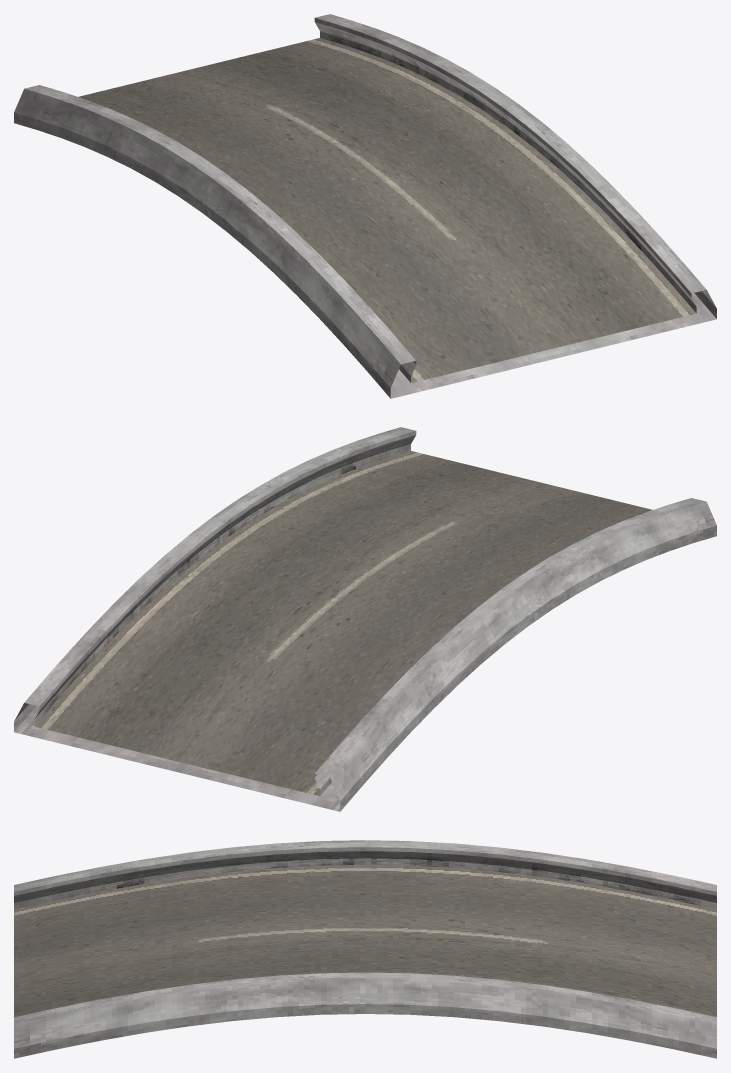
Rendered from straight2.glb.
3 views of the same model, one above another, from view 1: azimuth 30°, elevation 25°; view 2: azimuth 150°, elevation 25°; view 3: azimuth 270°, elevation 25° (orthographic). The views are drawn at different scales.
Parts seen in each view (by area): view 1: road-Straight-BiSlopeUp-BiSlopeDown-Even-Center-Size2; view 2: road-Straight-BiSlopeUp-BiSlopeDown-Even-Center-Size2; view 3: road-Straight-BiSlopeUp-BiSlopeDown-Even-Center-Size2.
Boxes of the visible parts, box(x1,y1,x2,y2) form: road-Straight-BiSlopeUp-BiSlopeDown-Even-Center-Size2: box(14, 14, 716, 398); road-Straight-BiSlopeUp-BiSlopeDown-Even-Center-Size2: box(14, 427, 716, 811); road-Straight-BiSlopeUp-BiSlopeDown-Even-Center-Size2: box(14, 840, 716, 1058).
Bounding box in the file's own units: 1 × 0.2344 × 2.
2 materials, 2 textured.
